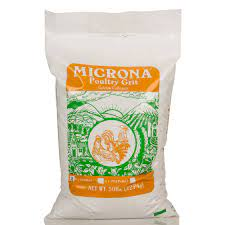feed_bag: (36, 8, 188, 225)
